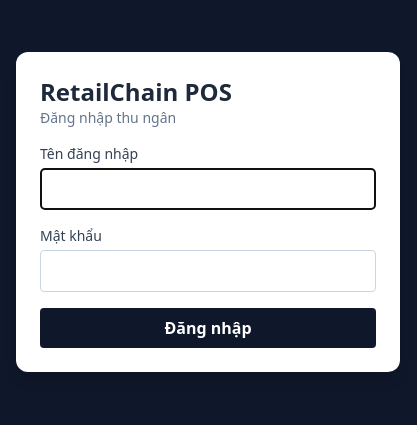
POS screens › REQ-AUTH-01: POS login rejects non-cashier accounts and revokes the session it got
Type "manager01" into the field labelled "Tên đăng nhập" at (208, 189), box [40, 168, 376, 210]
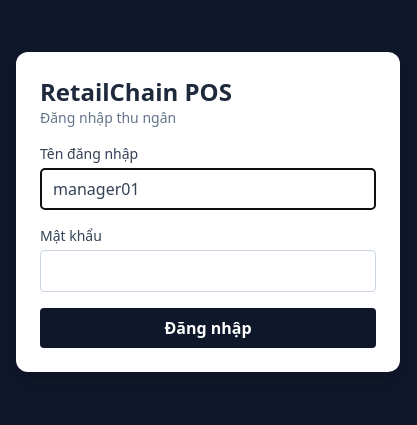
Type "Manager@2026" into the password field labelled "Mật khẩu" at (208, 271), box [40, 250, 376, 292]
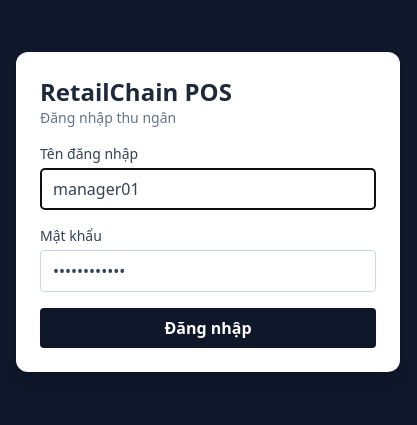
Click the button "Đăng nhập" at (208, 328), box [40, 308, 376, 348]
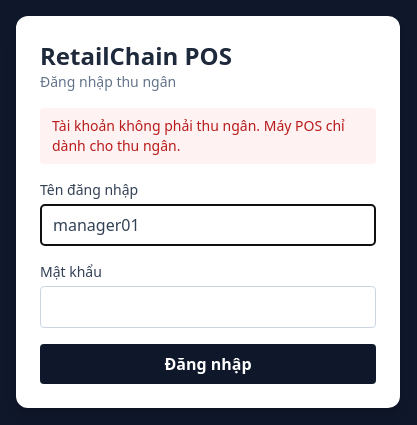
Now the message reads "Tài khoản không phải thu ngân. Máy POS chỉ dành cho thu ngân.", box [52, 116, 345, 155]
